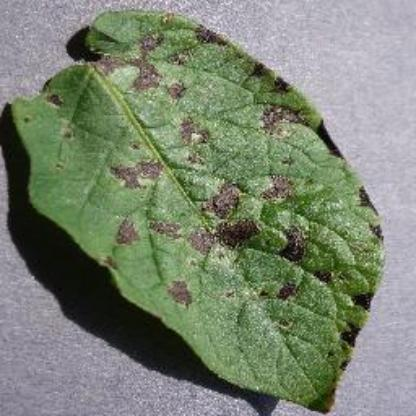Early-Blight: (5, 7, 385, 413)
